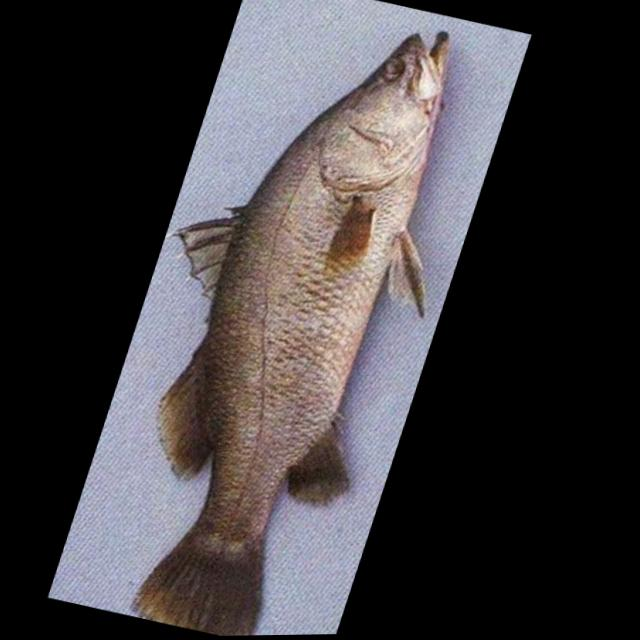Seabass: (43, 0, 520, 638)
